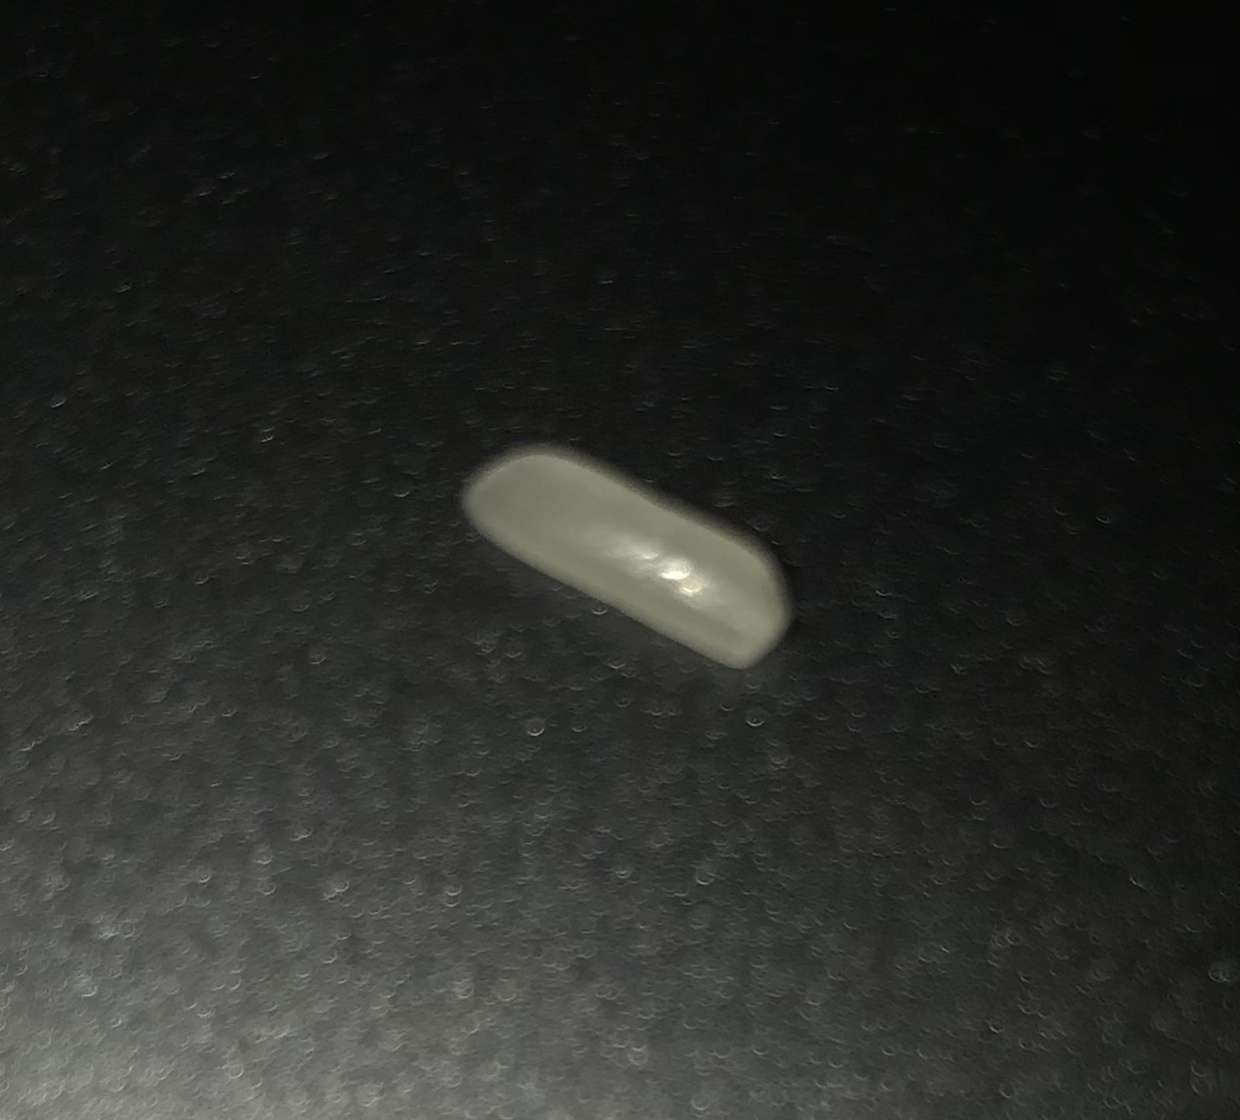Gao Thom My: (437, 410, 819, 707)
